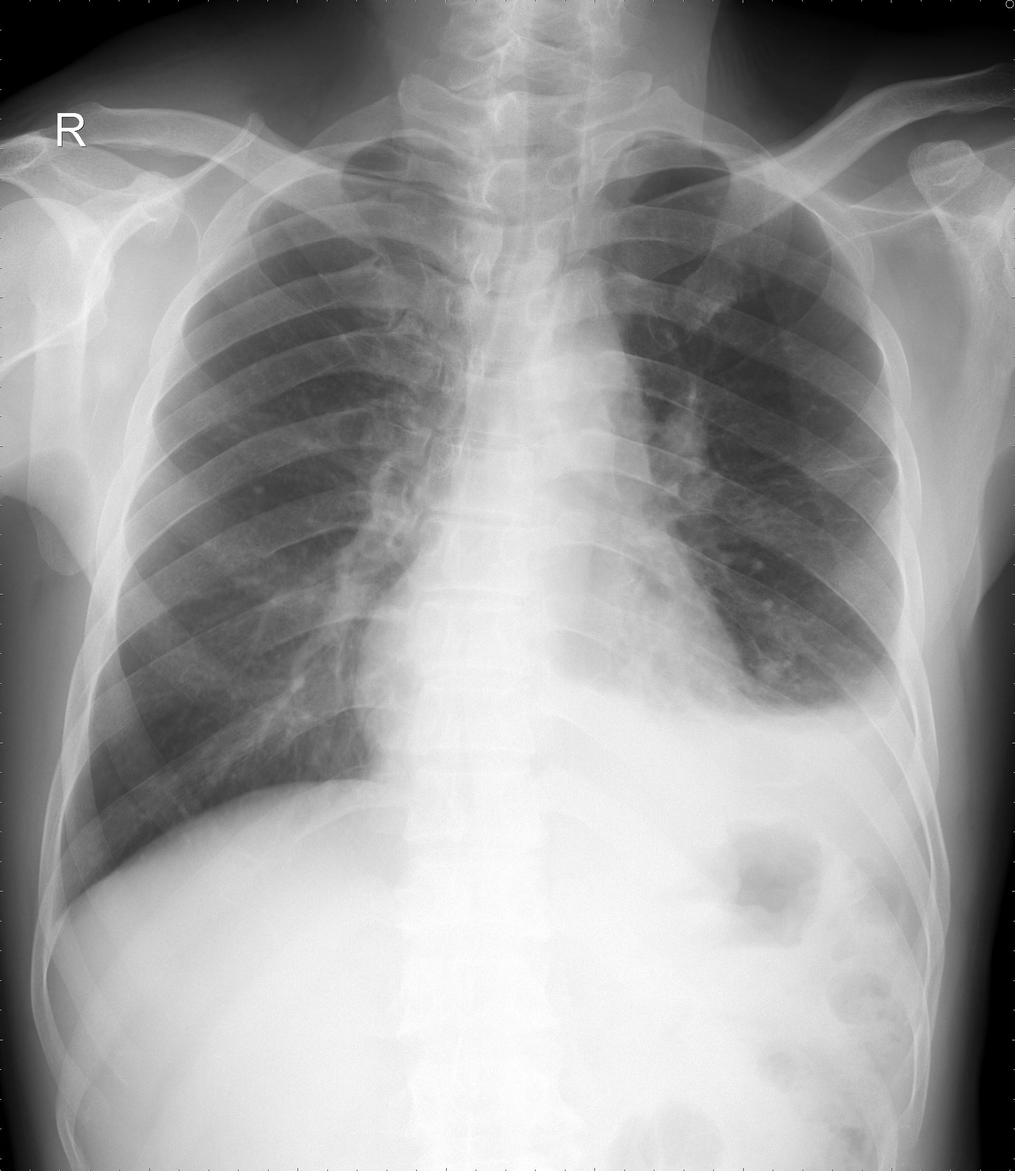Pulmonary fibrosis: (811, 433, 892, 486)
